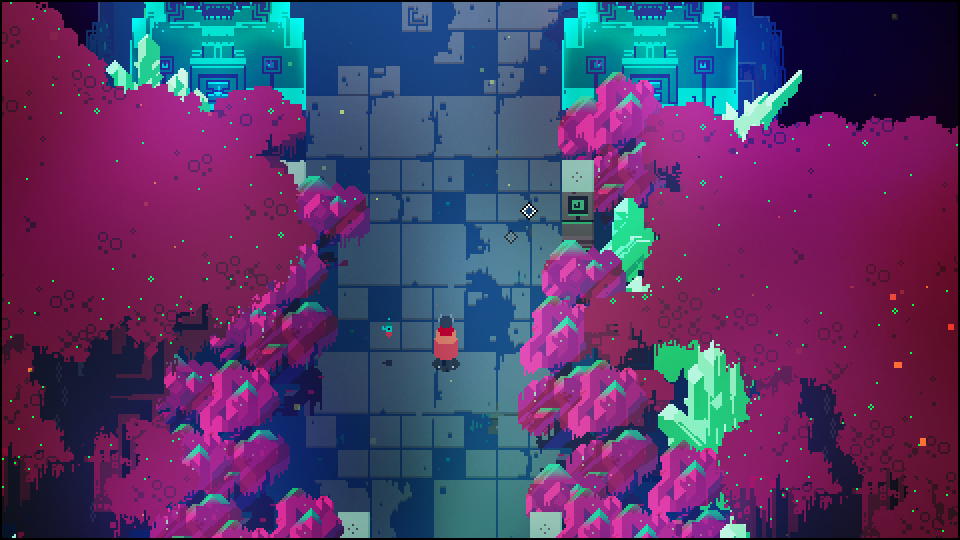player: (432, 314, 459, 366)
